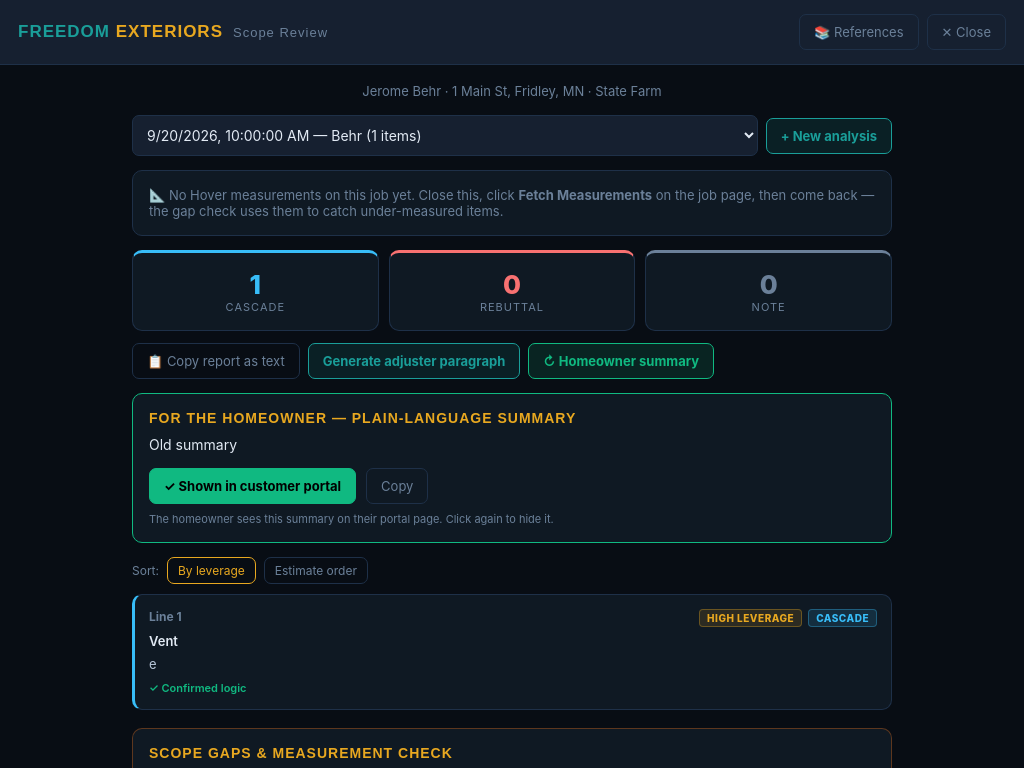
Test: regenerating the homeowner summary un-shares it until re-approved
The image size is (1024, 768).
expect the button "✓ Shown in customer portal" is shown: met, box [149,468,356,504]
Click the button "↻ Homeowner summary". click: {"x": 621, "y": 361}
box: [528,343,714,379]
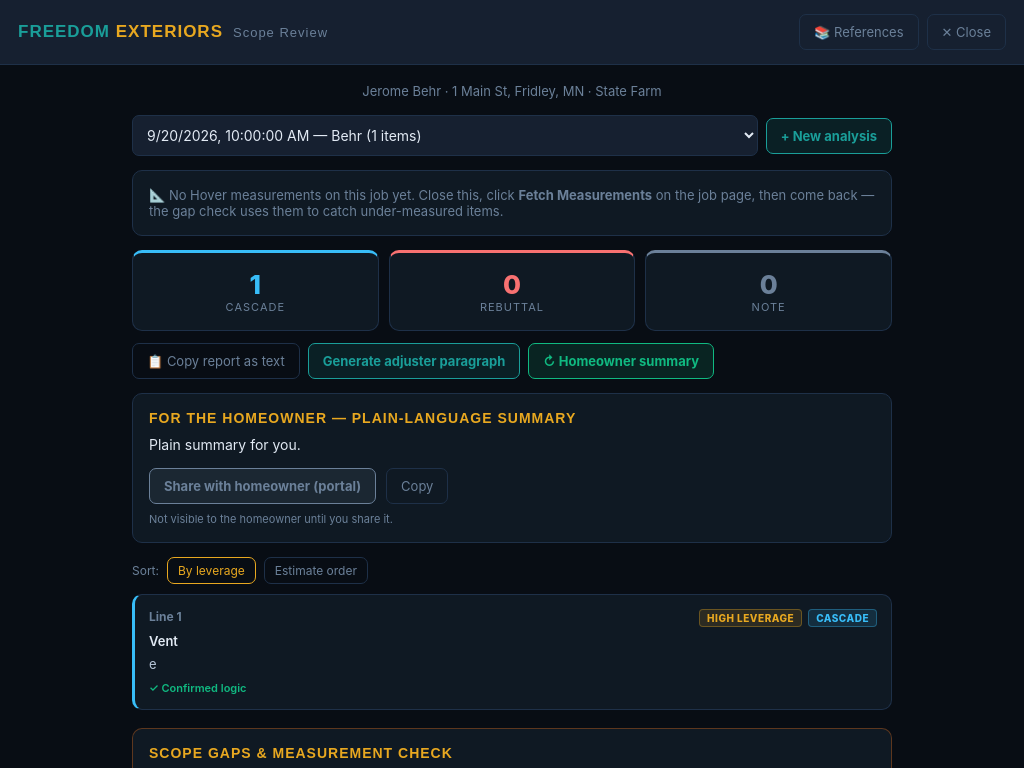
expect the text "Plain summary for you." is shown: met, box [149,436,301,453]
